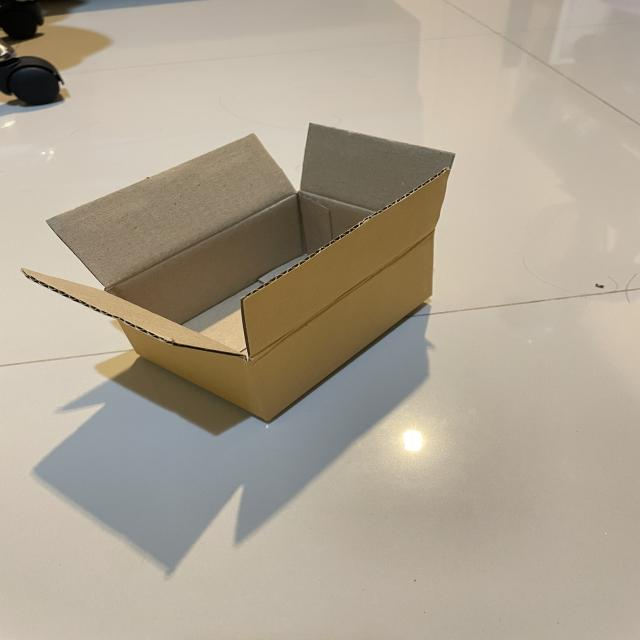box: (20, 123, 456, 424)
opened: (20, 124, 457, 361)
